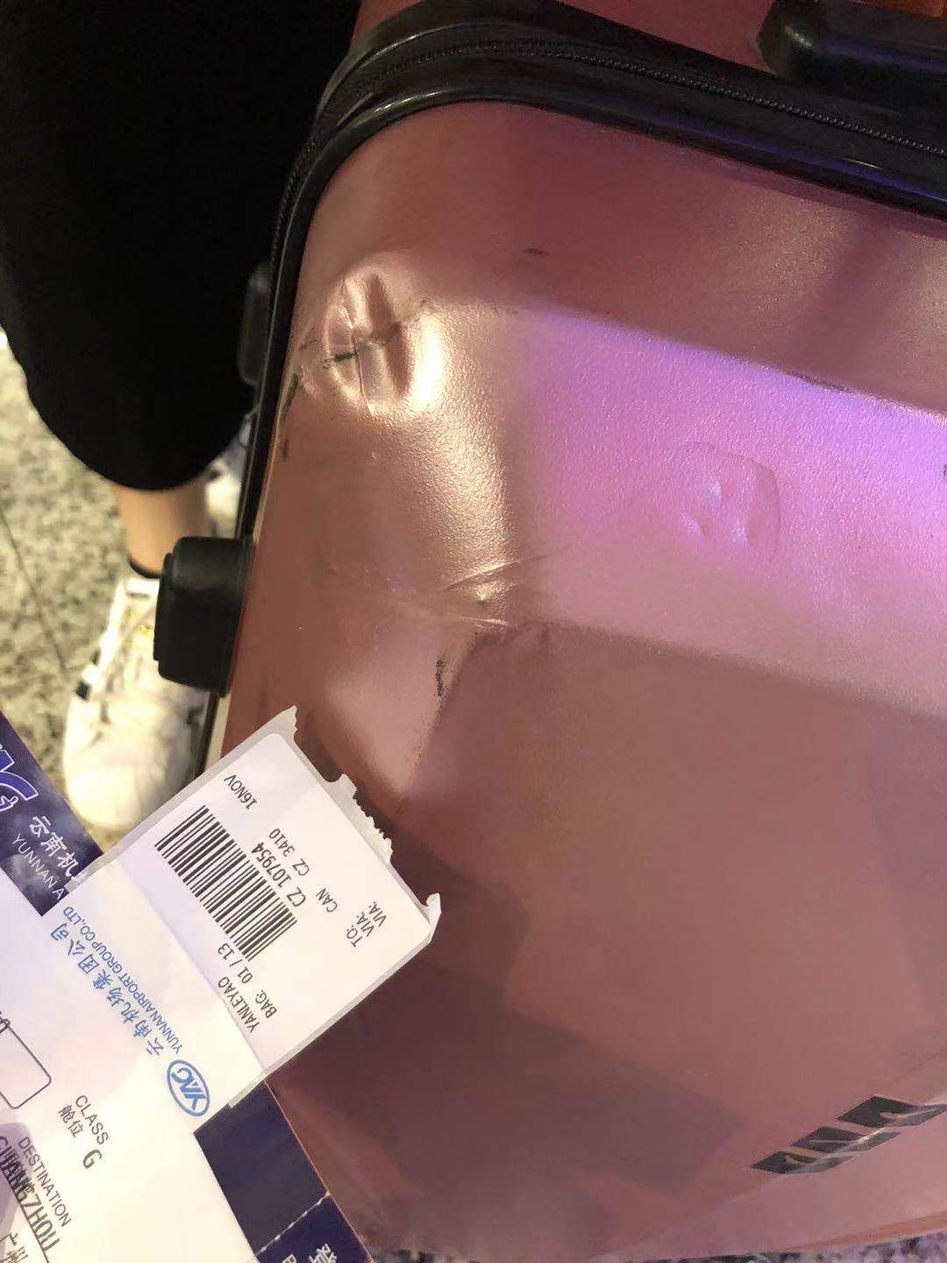rupture: (318, 267, 416, 404)
